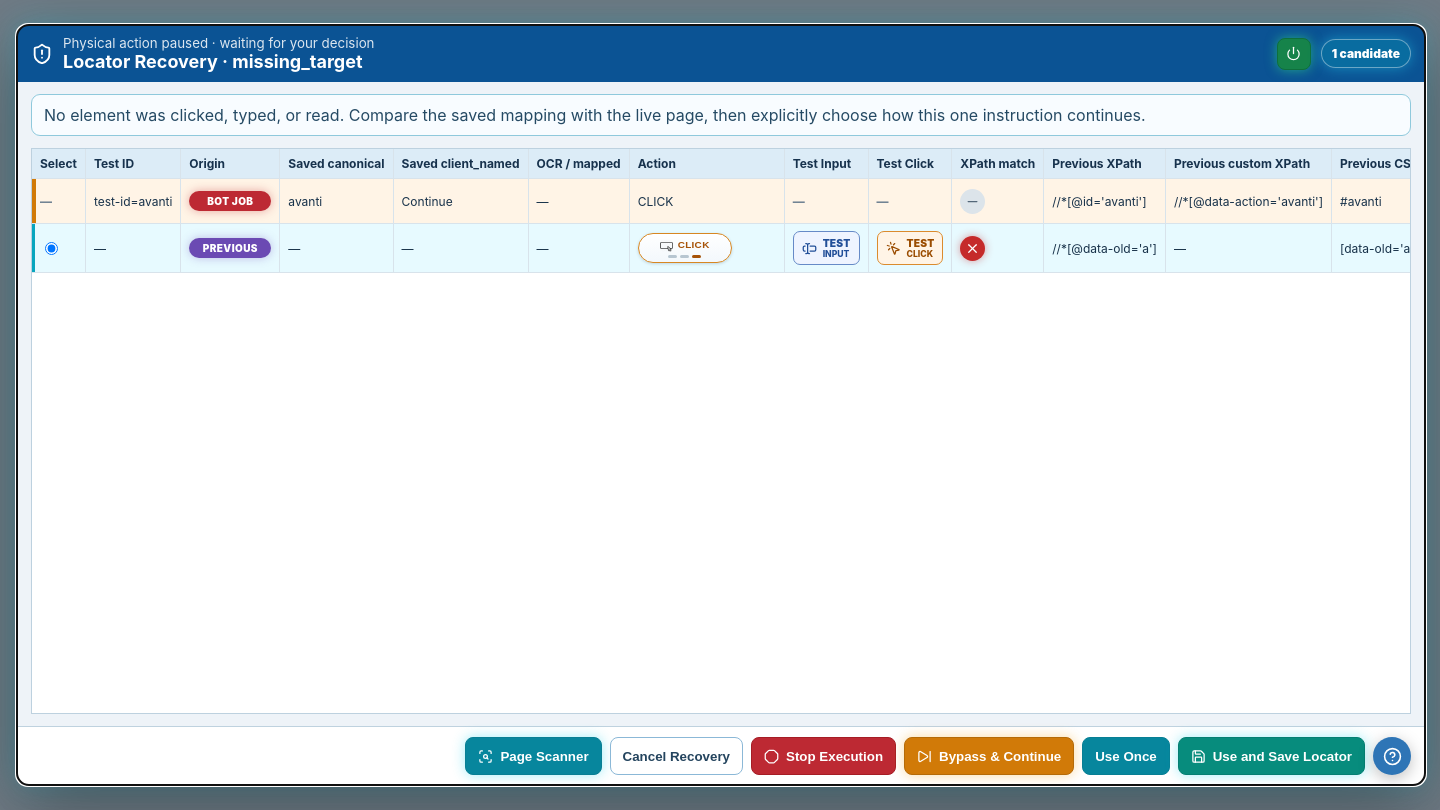
Scenario: reports non-Error scanner and candidate failures without settling recovery
Click the button "Page Scanner" at (534, 756), box [465,737,602,775]
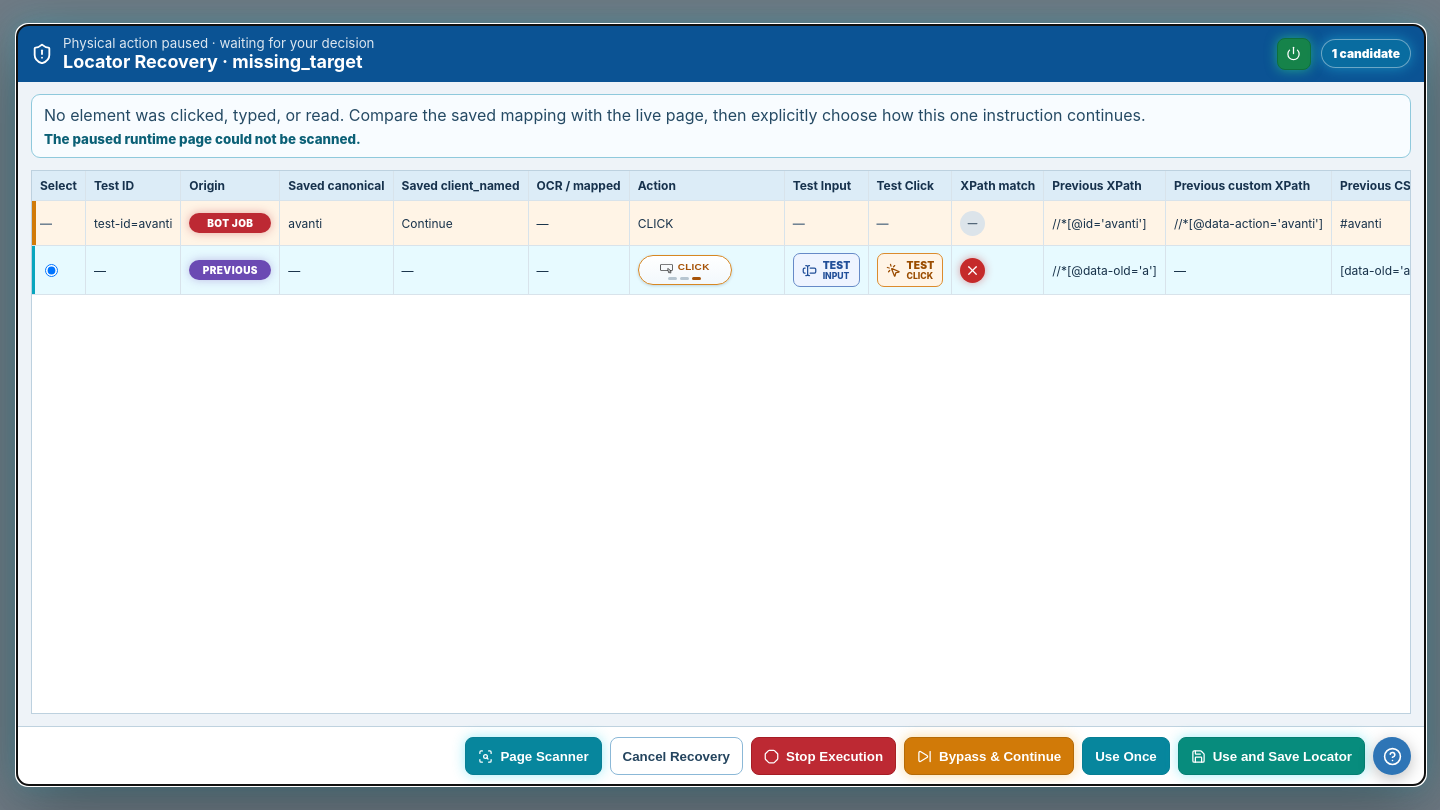
Expected: the text "The paused runtime page could not be scanned." is shown, [44,131,361,147]
Click the button titled "Test Input on candidate" at (826, 270), box [793,253,860,287]
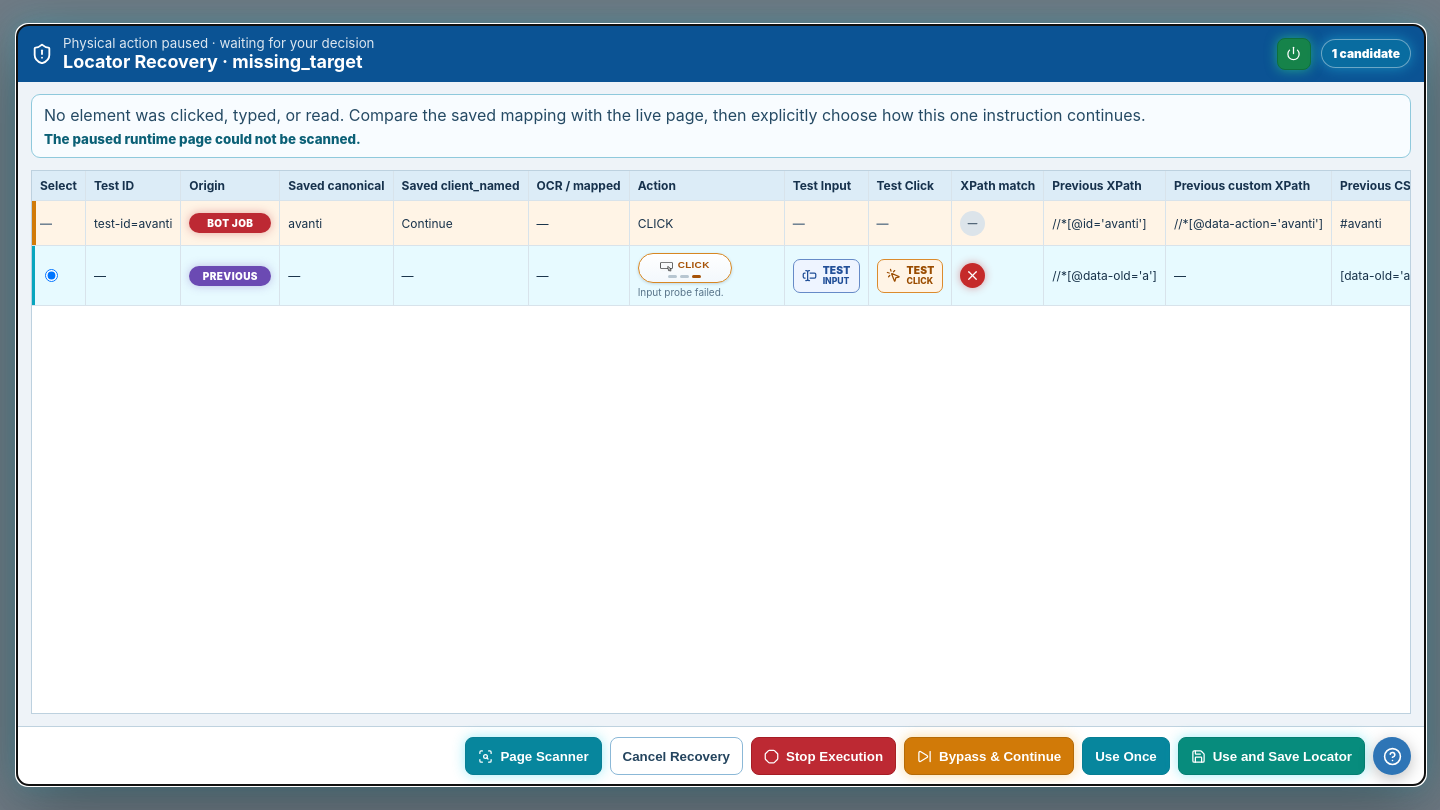
Expected: the text "Input probe failed." is shown, [638,286,724,298]
Click the button titled "Test Click on candidate" at (910, 276), box [876,258,943,292]
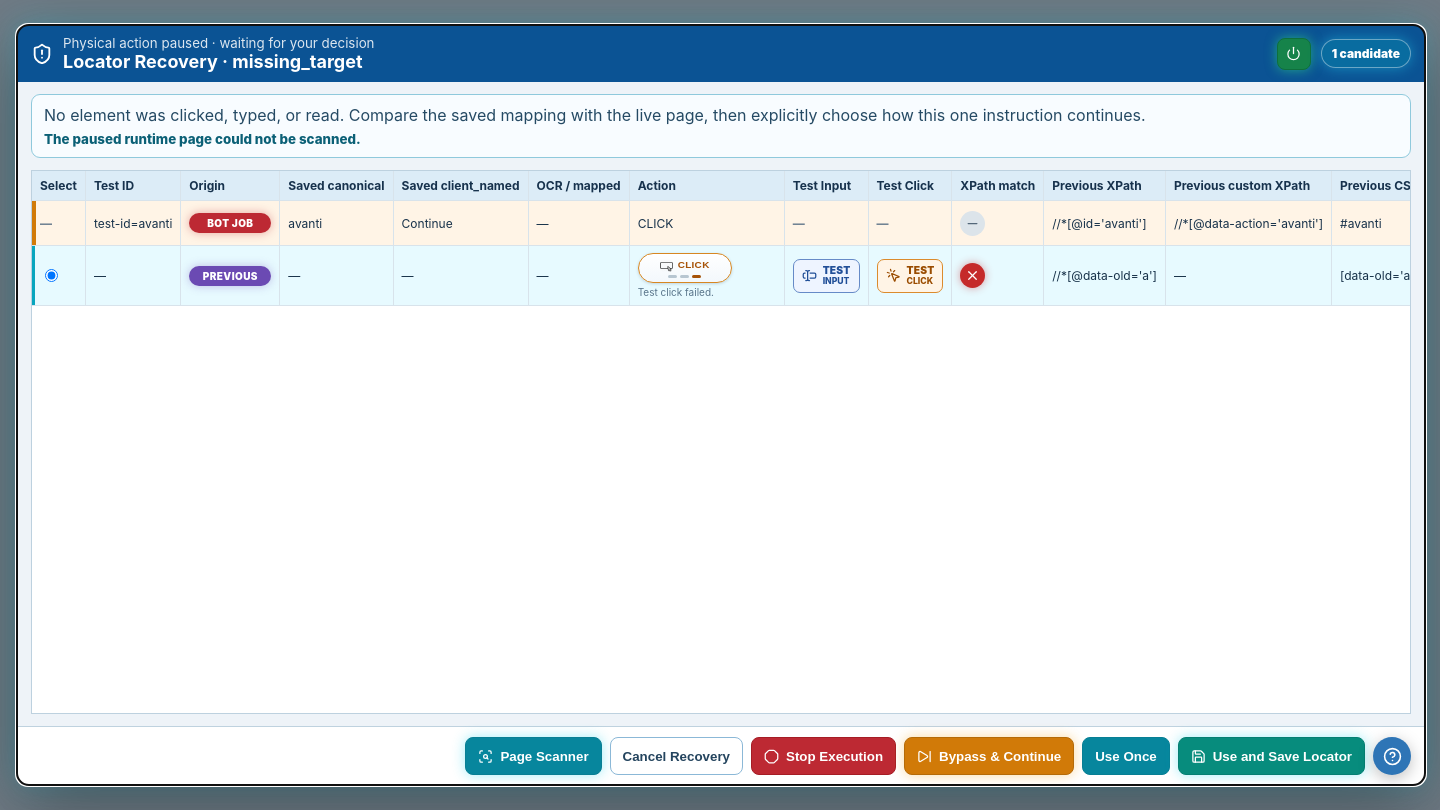
Expected: the text "Test click failed." is shown, [638,286,714,298]
